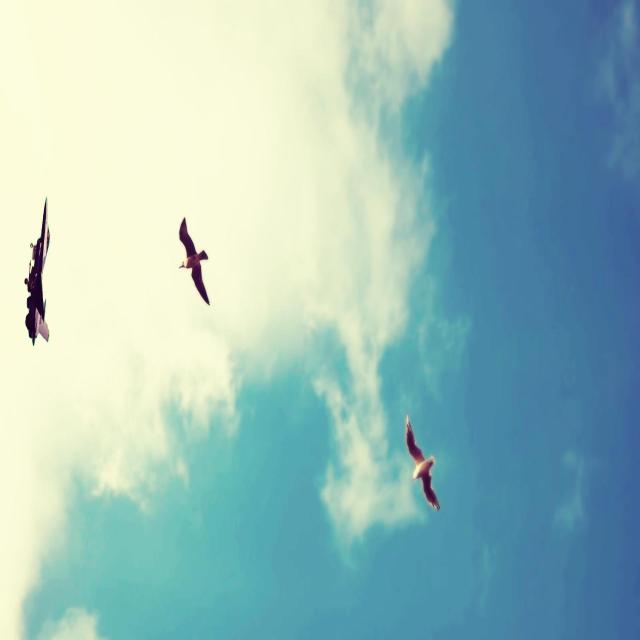airplane: (24, 196, 50, 346)
